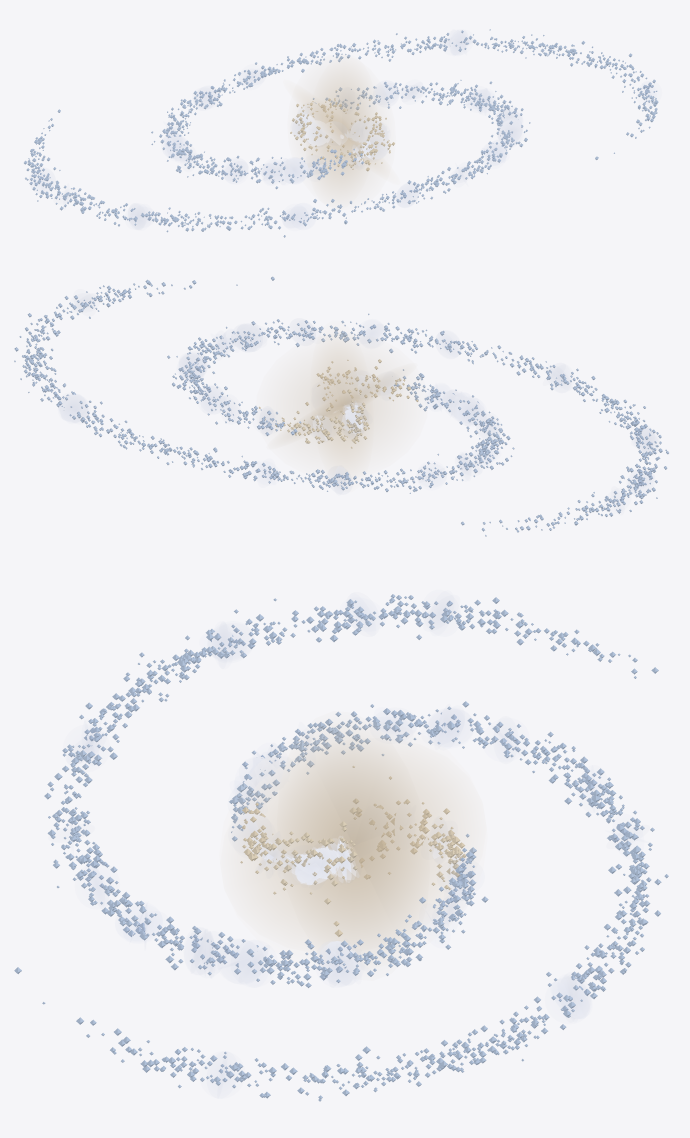
3 views of the same model, one above another, from view 1: azimuth 30°, elevation 25°; view 2: azimuth 150°, elevation 25°; view 3: azimuth 270°, elevation 25° (orthographic). The views are drawn at different scales.
Bounding box in the file's own units: 7.2 × 1.78 × 4.01.
